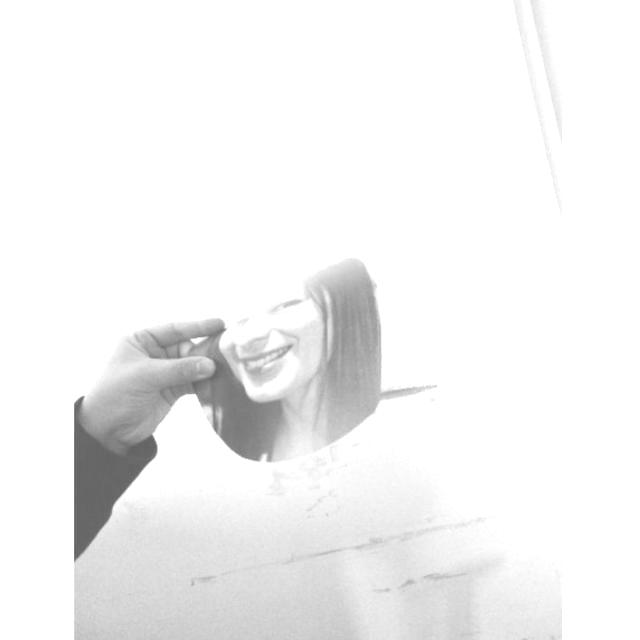fake: (167, 246, 393, 478)
